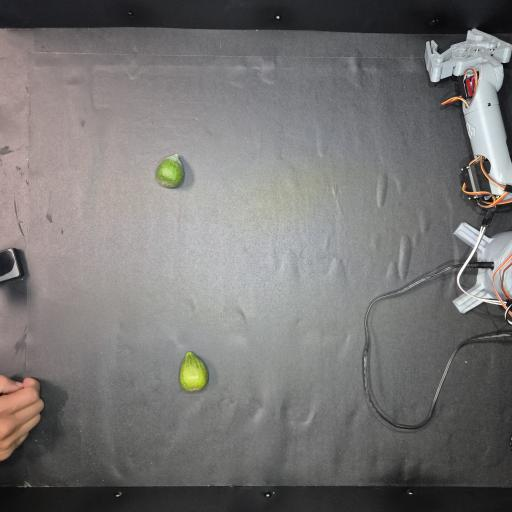higo: (180, 351, 208, 391), (156, 154, 184, 188)
